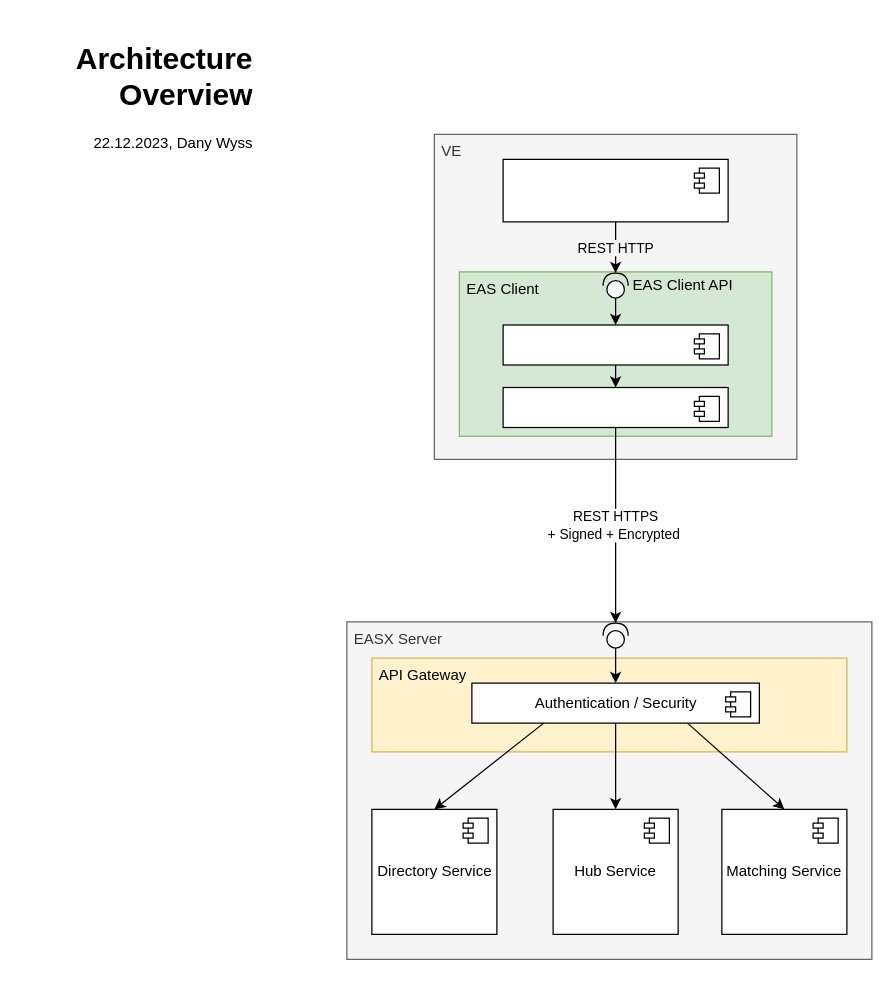
Some shapes in this 894 by 981 pixel diagram are drawn without their labels. The centre of each missing label's shape, as x and y in pixels:
EASX Server API: (615,635)
Encryption/Decryption: (615,407)
Validation / Signing: (615,344)
VE System: (615,190)
